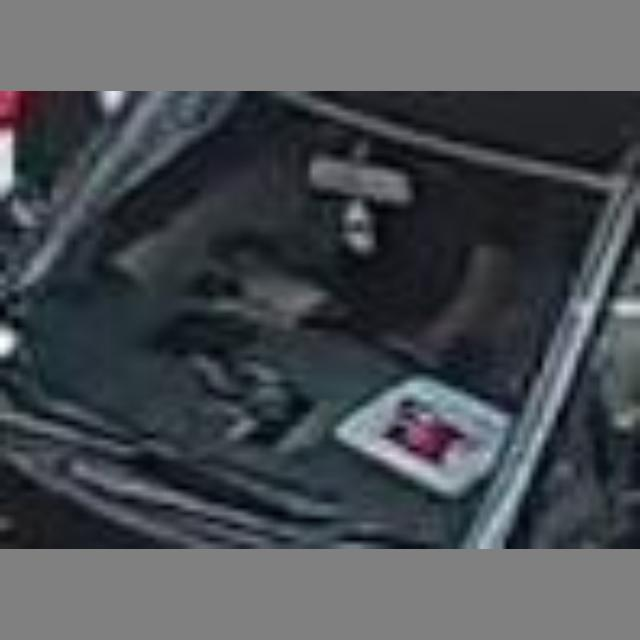tidak-pakai: (278, 175, 472, 356)
